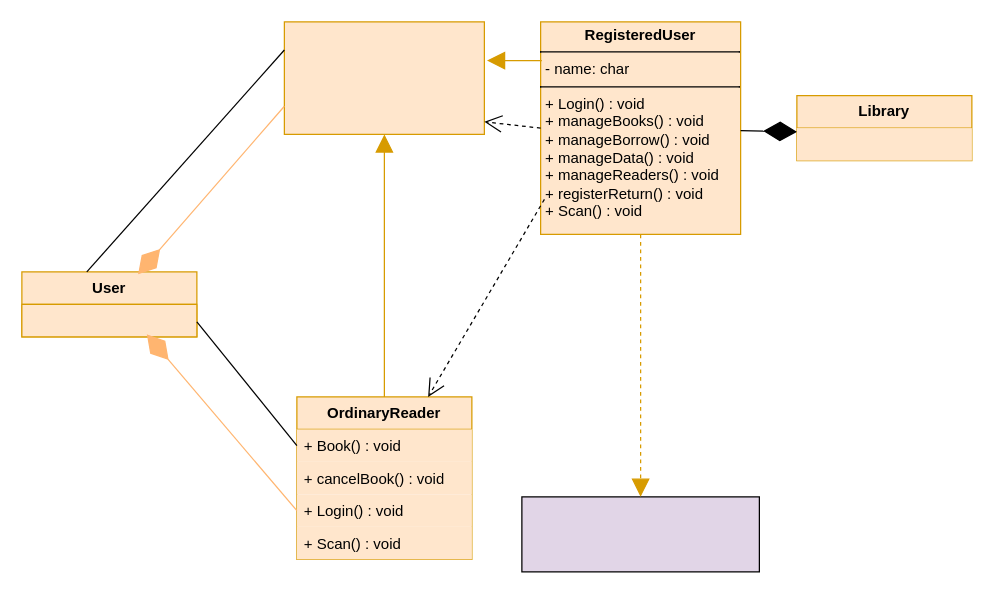
Some shapes in this 994 by 594 pixel diagram are drawn without their labels. Each missing label, with the centre of its shape:
+ libraryname:char: pixel 883 144
- username : char: pixel 109 320
<<Interface>> MailSystem + registerReturn() : void: pixel 640 534
RegisteredUser - username: char + Login() : void + Scan() : void: pixel 383 77
